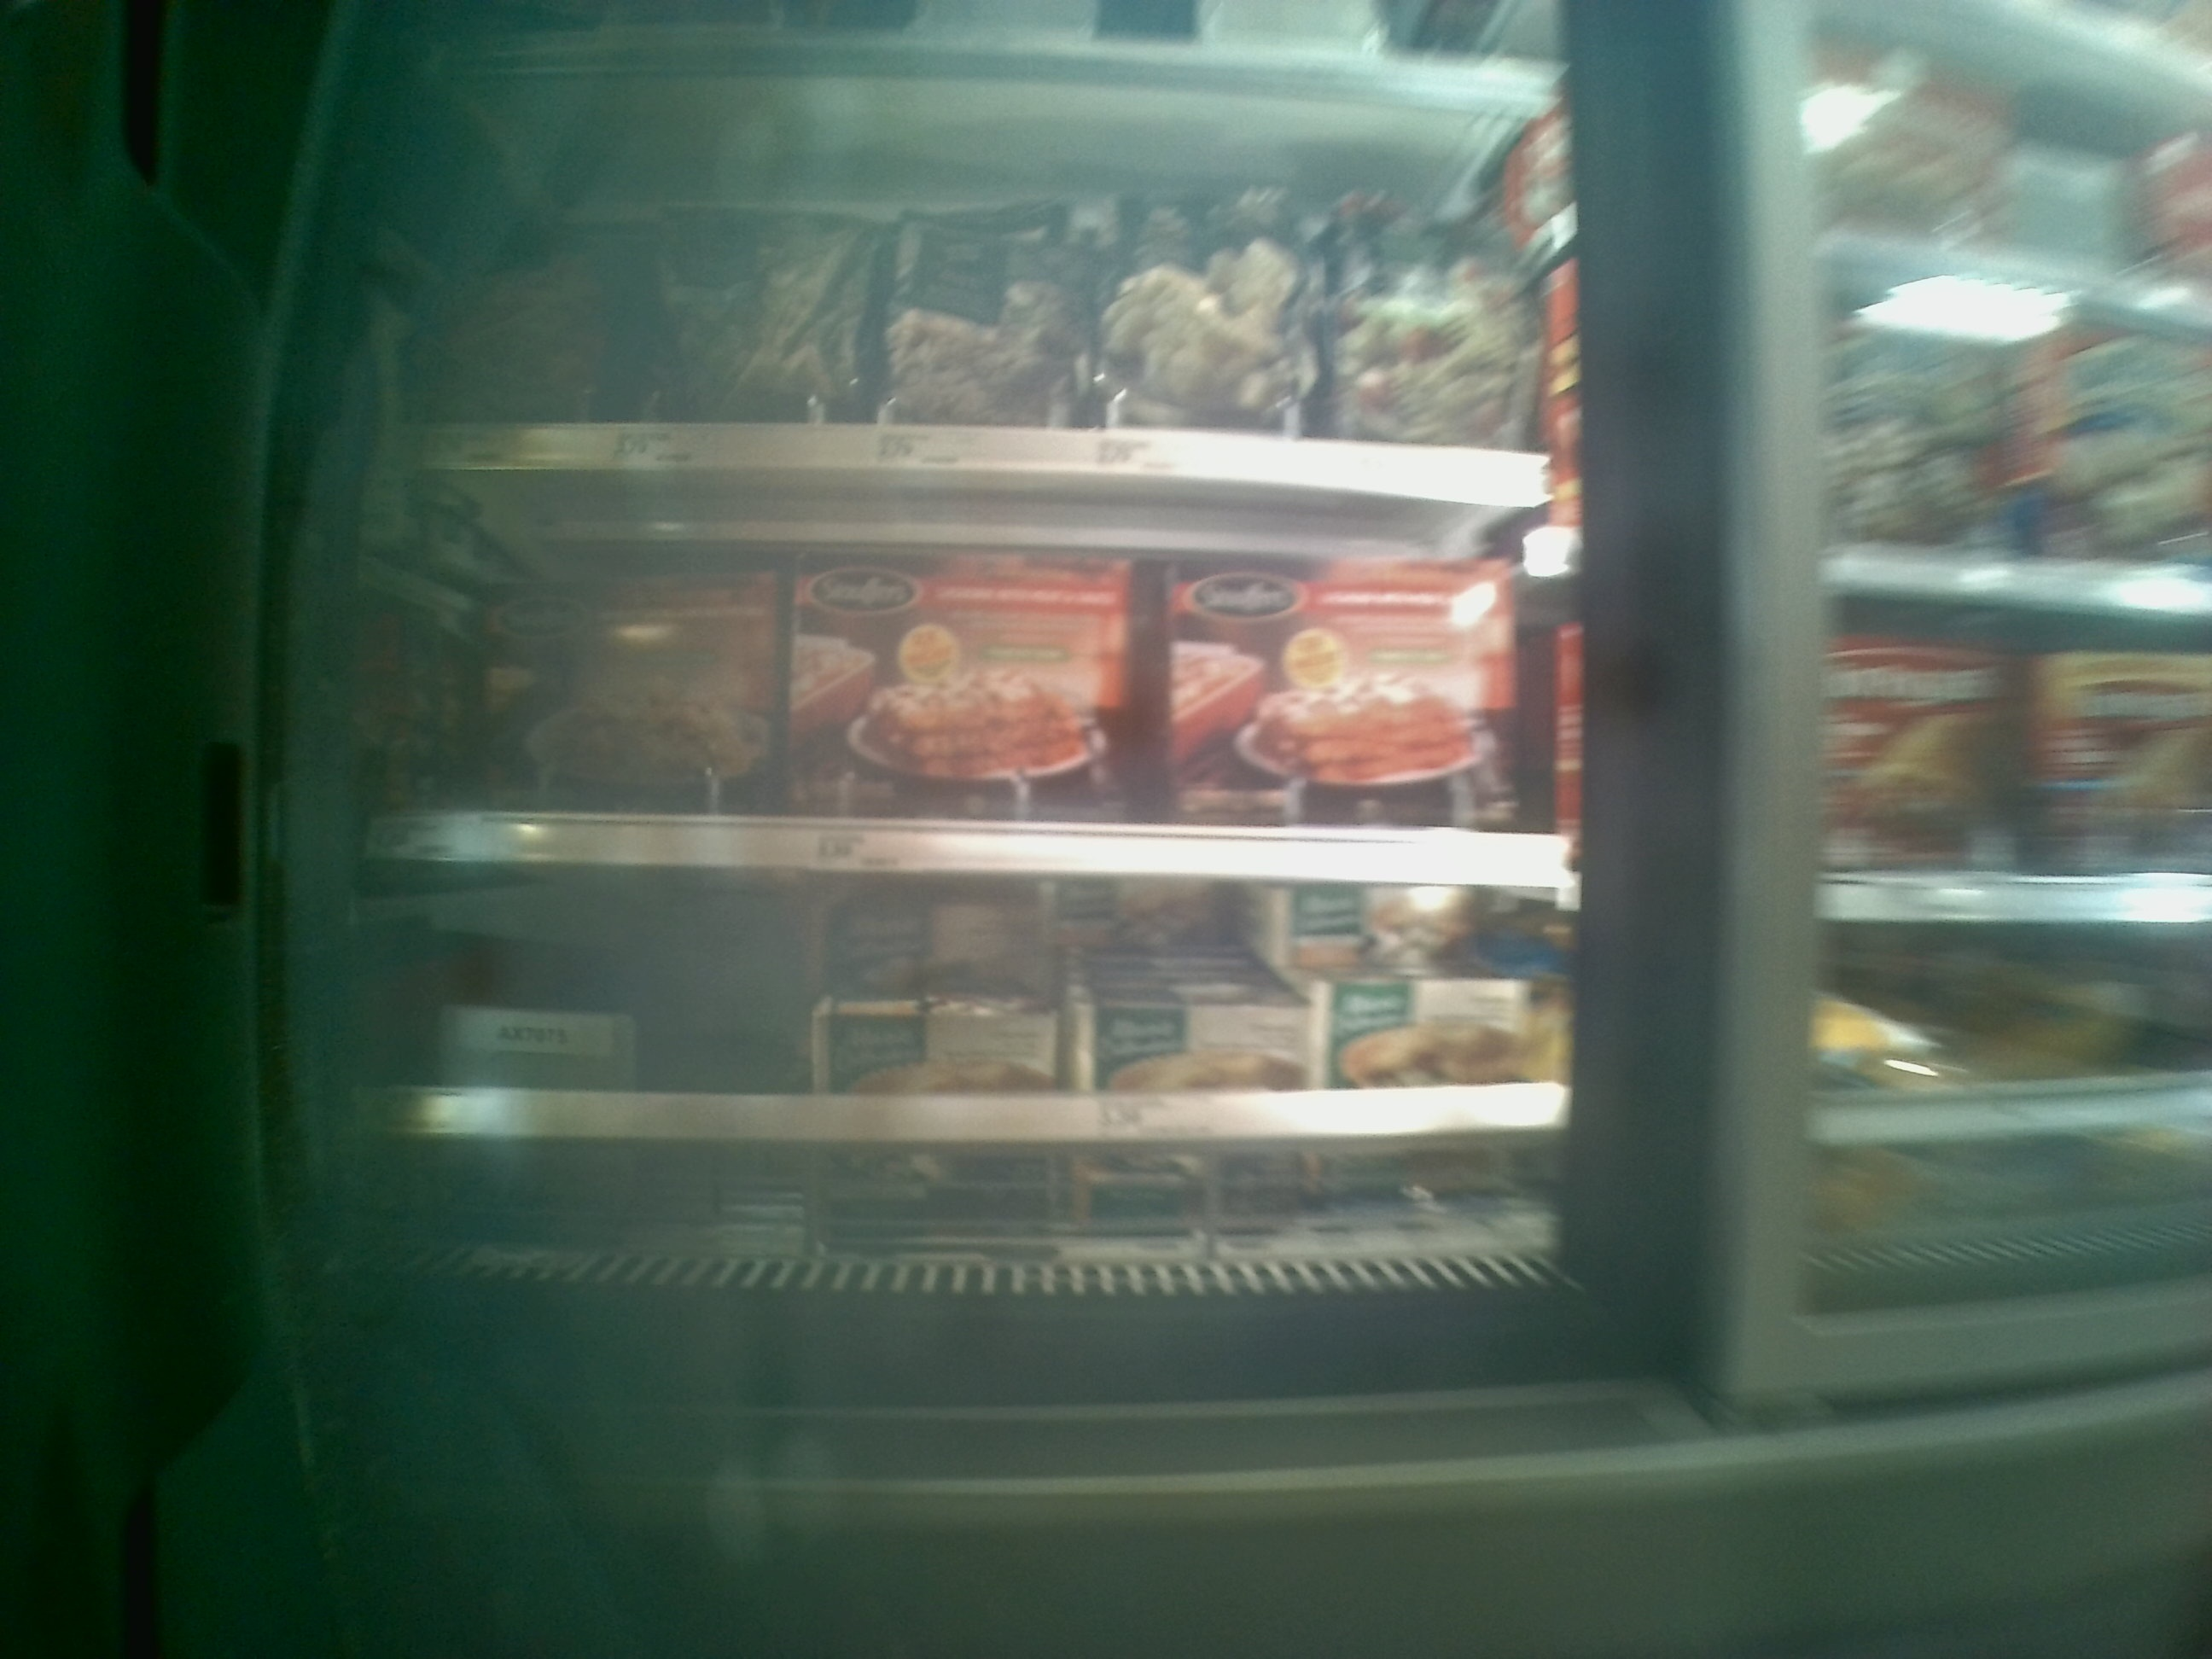frozen-food-shelf: (387, 479, 1575, 884), (411, 122, 1555, 497), (415, 880, 1543, 1140)
